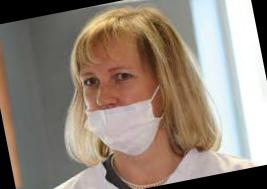mask_weared_incorrect: (80, 60, 158, 155)
